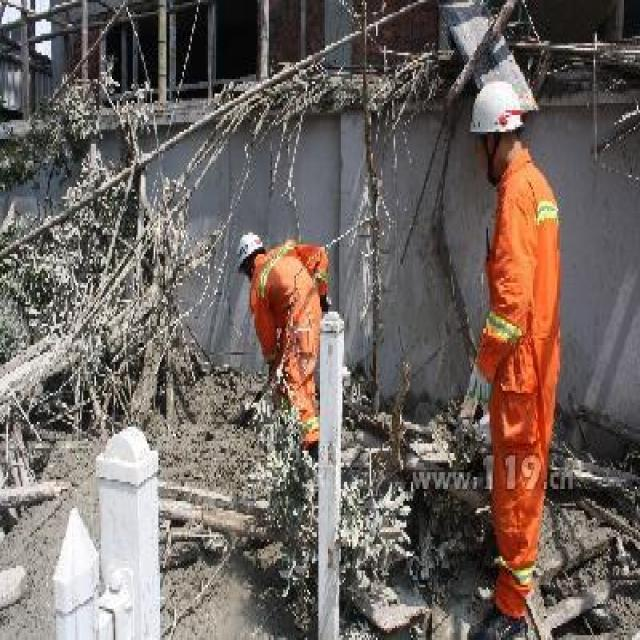head: (466, 72, 532, 189), (234, 230, 267, 285)
